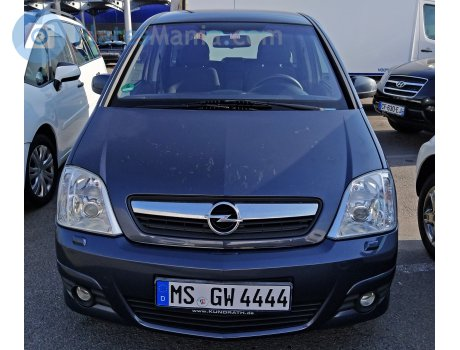License Plates: (171, 281, 285, 307)
